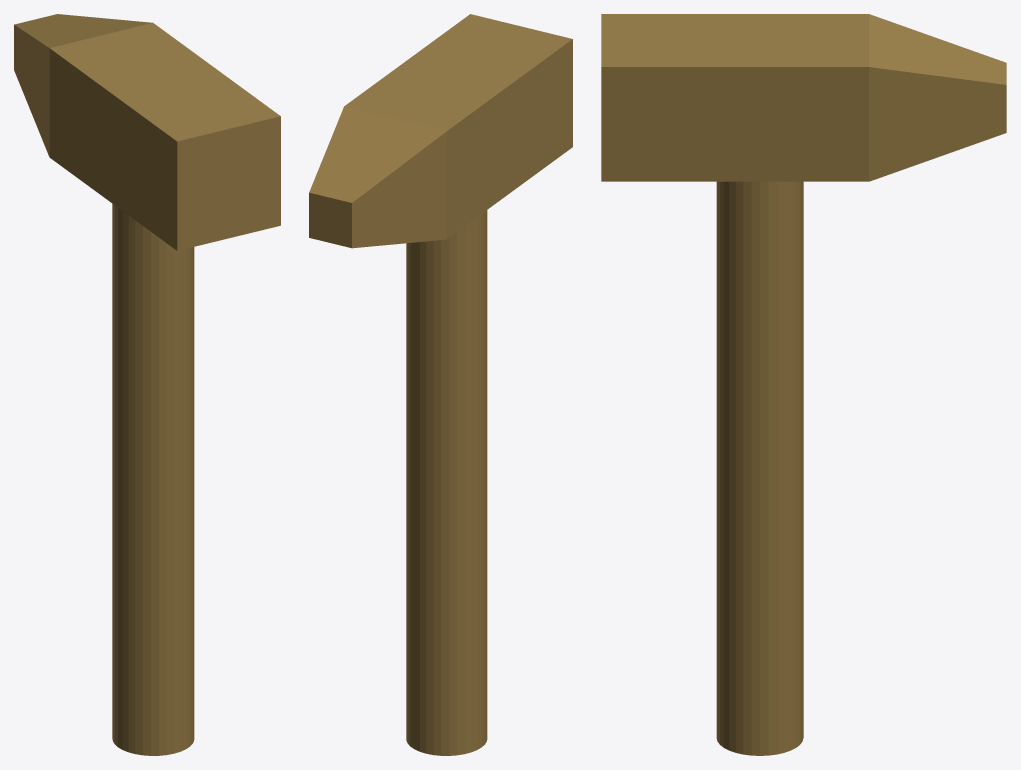
Rendered from Hammer.fbx.
3 renders of one model, left to right at view 1: azimuth 30°, elevation 25°; view 2: azimuth 150°, elevation 25°; view 3: azimuth 270°, elevation 25°, orthographic. The views are drawn at different scales.
Visible parts, largest first — view 1: Cube.001, Cylinder; view 2: Cylinder, Cube.001; view 3: Cube.001, Cylinder.
Part boxes in pixels (x1,y1,x2,y2): Cube.001: (14,14,280,250); Cylinder: (112,204,194,755); Cylinder: (406,210,487,755); Cube.001: (309,14,572,248); Cube.001: (601,14,1006,181); Cylinder: (716,181,803,755).
Bounding box in the file's own units: 107 × 653 × 344.
